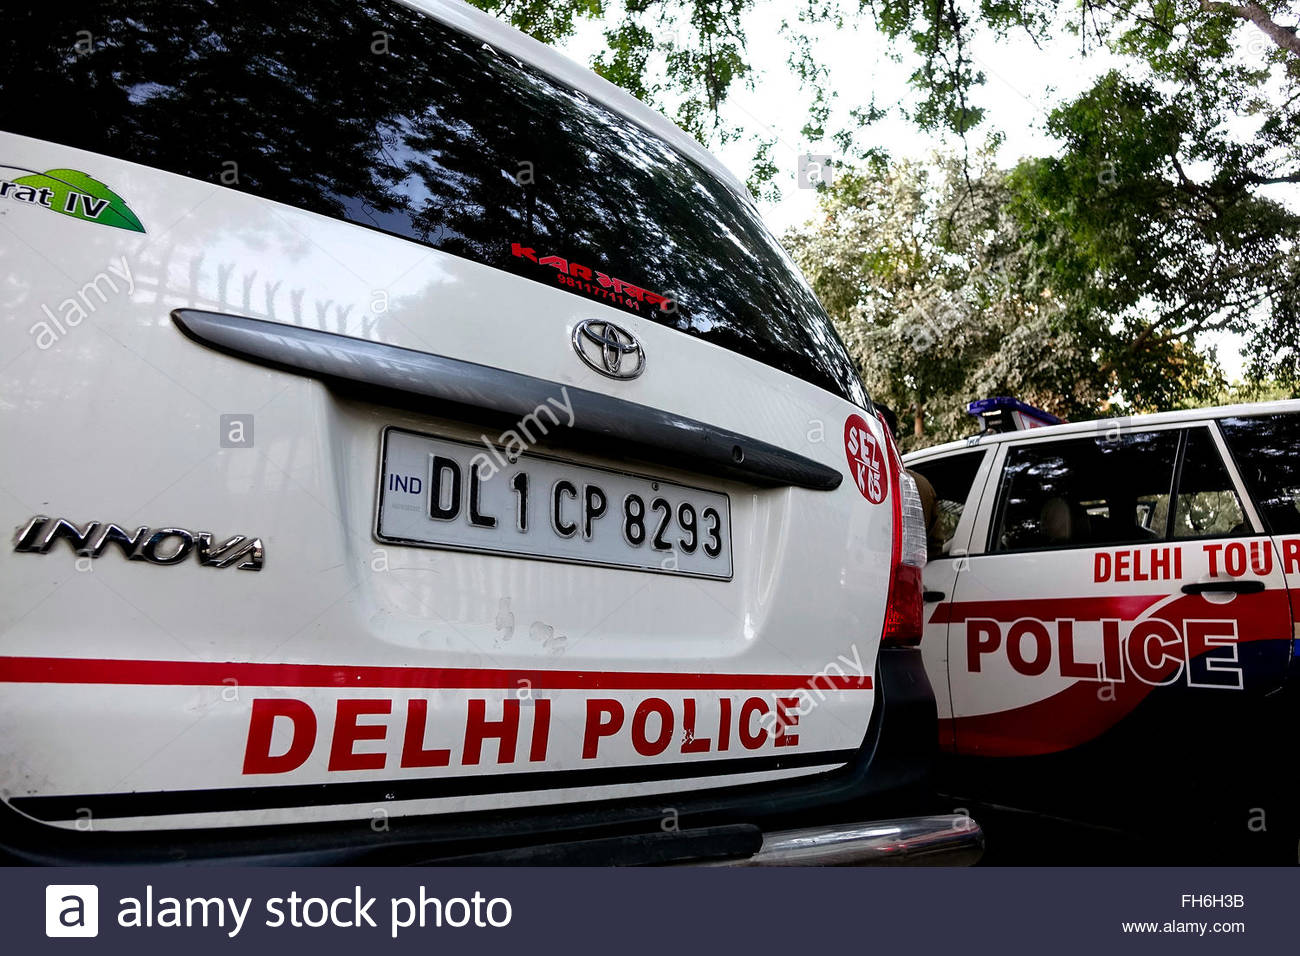number_plate: (373, 413, 743, 589)
